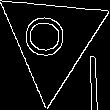O_E: (27, 16, 77, 64)
